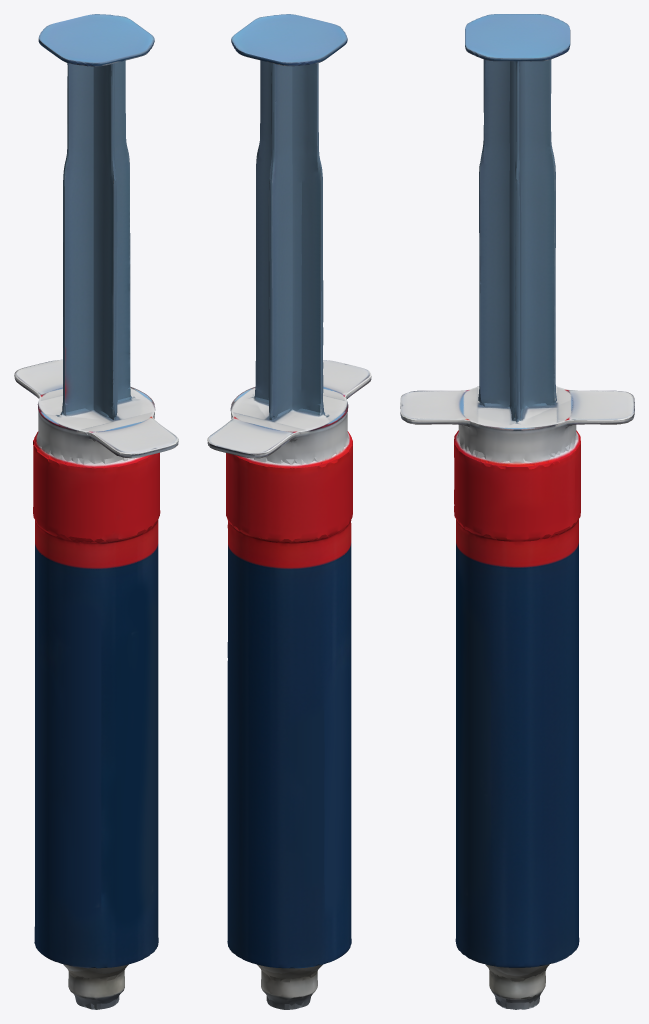
Rendered from ThermalPaste.fbx.
The picture shows the model from 3 angles, left to right: view 1: azimuth 30°, elevation 25°; view 2: azimuth 150°, elevation 25°; view 3: azimuth 270°, elevation 25°; orthographic projection.
Visible parts, largest first — view 1: Tube, Dummy001; view 2: Tube, Dummy001; view 3: Tube, Dummy001.
Part boxes in pixels (x1,y1,x2,y2): Tube: (14,359,178,1009); Dummy001: (38,14,154,420); Tube: (207,360,371,1009); Dummy001: (231,14,347,420); Tube: (400,386,634,1009); Dummy001: (465,14,570,422).
Size of the model in its own units: 7.82 by 65.45 by 14.43.
